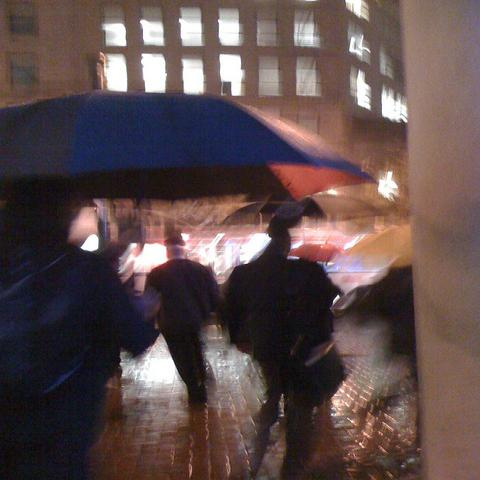car: (288, 241, 341, 262)
